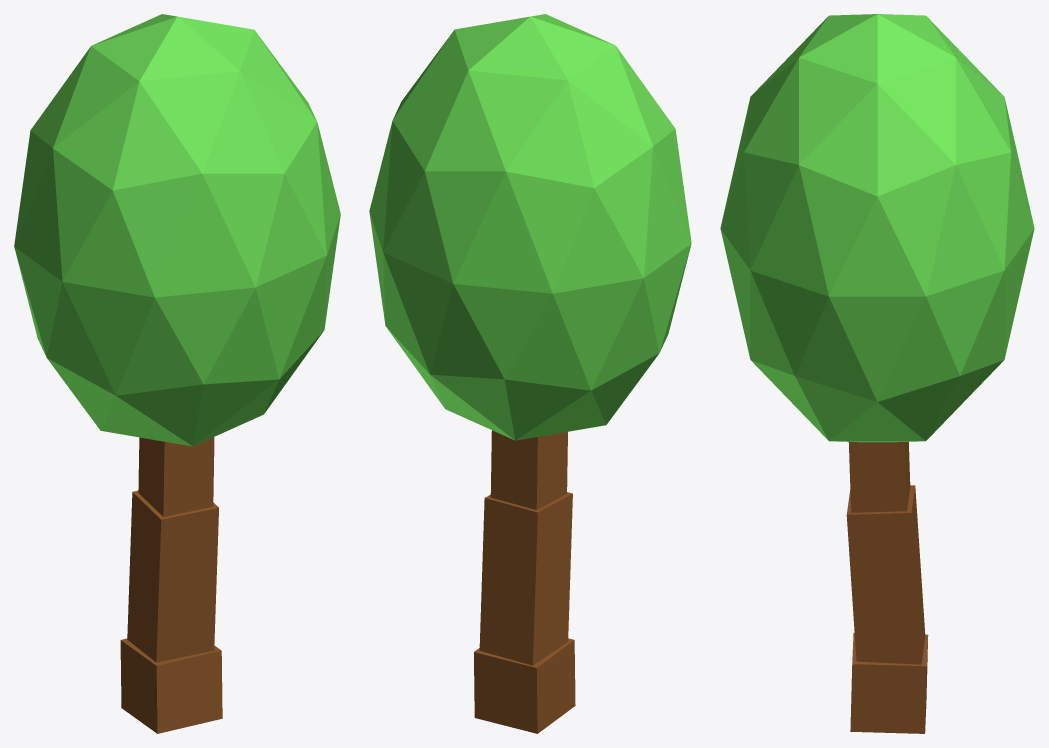
File: Tree4.fbx
The picture shows the model from 3 angles, left to right: view 1: azimuth 30°, elevation 25°; view 2: azimuth 150°, elevation 25°; view 3: azimuth 270°, elevation 25°; orthographic projection.
Visible parts, largest first — view 1: Tree4; view 2: Tree4; view 3: Tree4.
Boxes of the visible parts, x1,y1,x2,y2 form: Tree4: (14,14,340,733); Tree4: (369,14,691,733); Tree4: (720,14,1034,733).
Size of the model in its own units: 526 by 1268 by 513.
